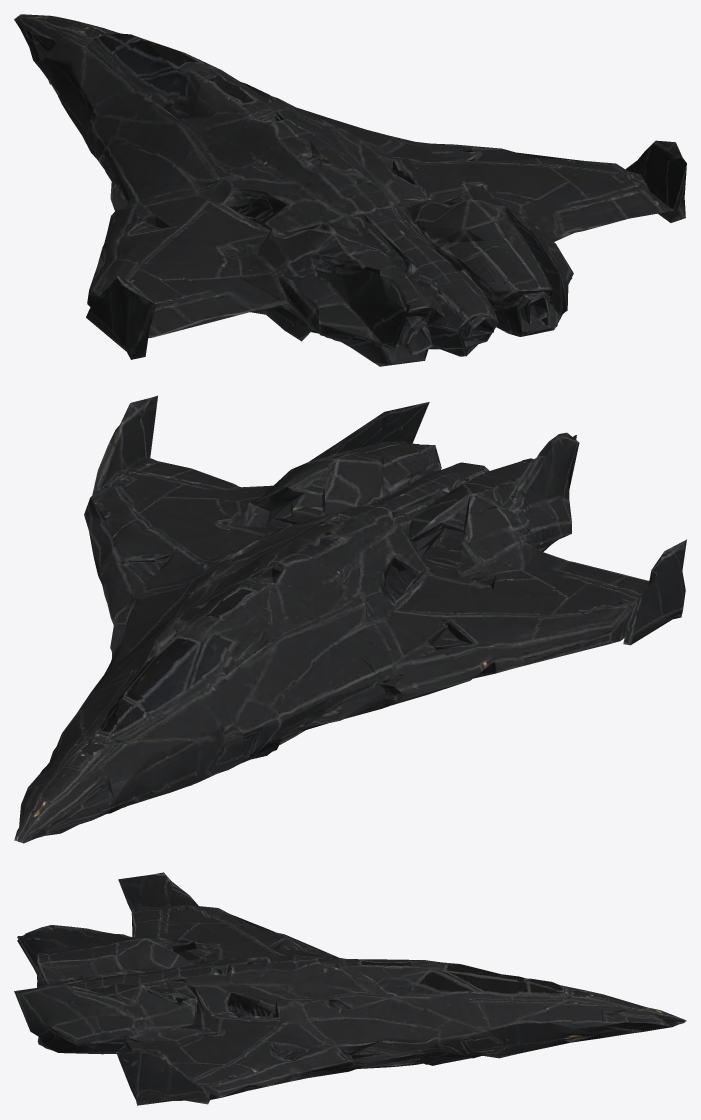
File: enemy-stalker.glb
3 renders of one model, top to bottom at view 1: azimuth 30°, elevation 25°; view 2: azimuth 150°, elevation 25°; view 3: azimuth 270°, elevation 25°, orthographic. The views are drawn at different scales.
Visible parts, largest first — view 1: enemy-stalker-rumpf; view 2: enemy-stalker-rumpf; view 3: enemy-stalker-rumpf.
Boxes of the visible parts, x1,y1,x2,y2 form: enemy-stalker-rumpf: [14, 14, 686, 366]; enemy-stalker-rumpf: [14, 395, 686, 843]; enemy-stalker-rumpf: [14, 872, 686, 1105].
Size of the model in its own units: 1.35 by 0.3421 by 2.
1 material, 1 textured.
